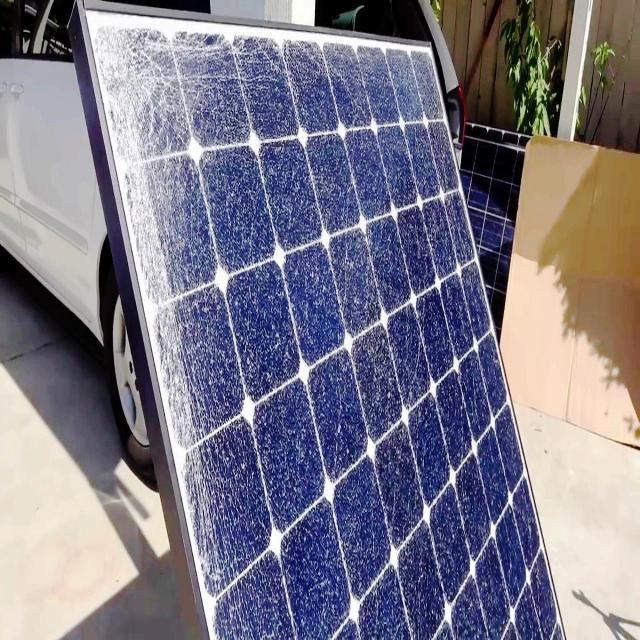faulty: (80, 2, 568, 640)
